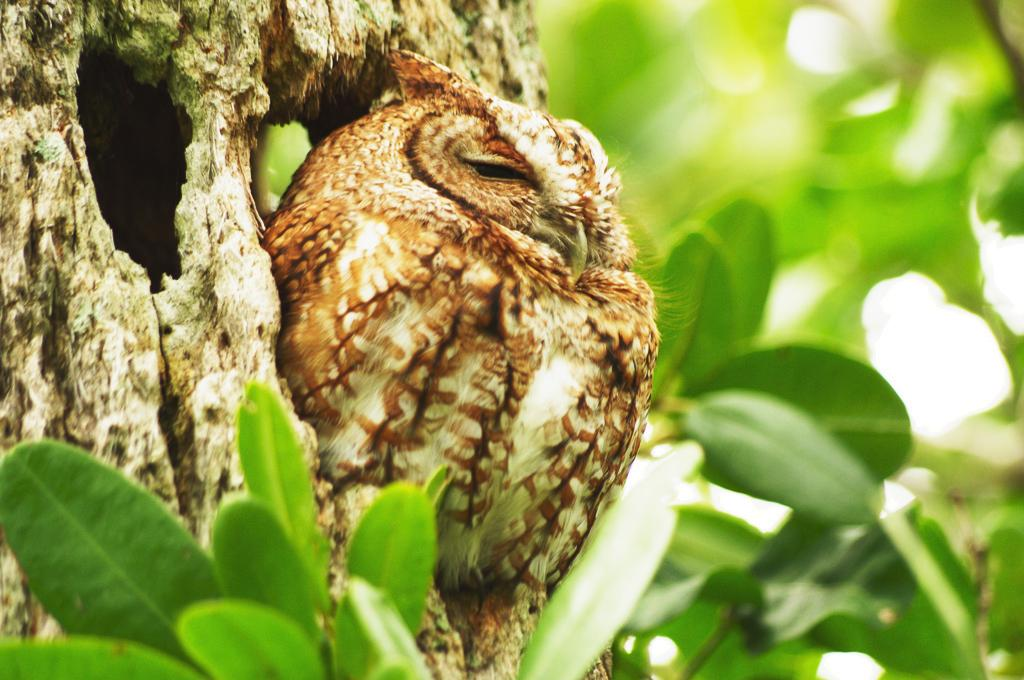Owl: (253, 41, 672, 603)
